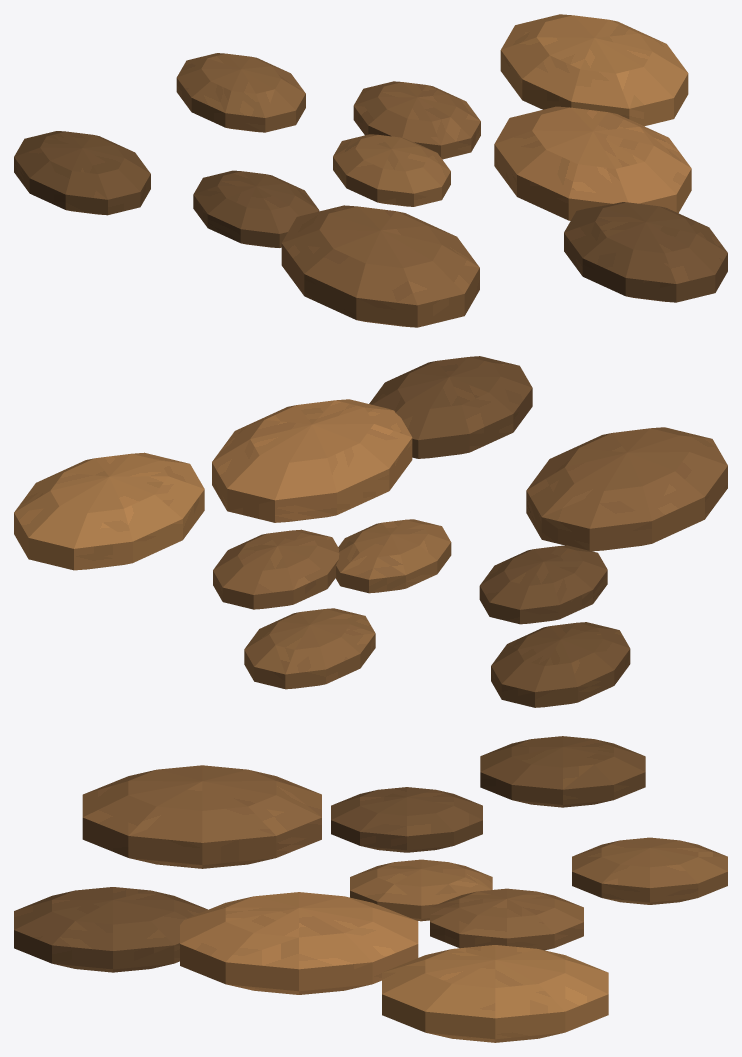
File: seed_brussels_sprout.glb
3 views of the same model, one above another, from view 1: azimuth 30°, elevation 25°; view 2: azimuth 150°, elevation 25°; view 3: azimuth 270°, elevation 25° (orthographic). The views are drawn at different scales.
Parts seen in each view (by area): view 1: block_grain 5, block_grain 3, block_grain 6, block_grain 8, block_grain 7, block_grain 4, block_grain 1, block_grain 2, block_grain 0; view 2: block_grain 5, block_grain 3, block_grain 6, block_grain 8, block_grain 7, block_grain 4, block_grain 1, block_grain 2, block_grain 0; view 3: block_grain 5, block_grain 3, block_grain 6, block_grain 8, block_grain 7, block_grain 4, block_grain 2, block_grain 1, block_grain 0.
Boxes of the visible parts, bbox=[...] form: block_grain 5: bbox=[281, 205, 479, 327]; block_grain 3: bbox=[494, 106, 691, 220]; block_grain 6: bbox=[500, 14, 688, 126]; block_grain 8: bbox=[564, 202, 727, 302]; block_grain 7: bbox=[14, 131, 150, 215]; block_grain 4: bbox=[176, 53, 305, 132]; block_grain 1: bbox=[353, 81, 480, 159]; block_grain 2: bbox=[193, 170, 319, 247]; block_grain 0: bbox=[333, 134, 450, 206]; block_grain 5: bbox=[526, 427, 727, 551]; block_grain 3: bbox=[212, 399, 412, 522]; block_grain 6: bbox=[14, 452, 204, 570]; block_grain 8: bbox=[369, 356, 532, 458]; block_grain 7: bbox=[491, 622, 630, 707]; block_grain 4: bbox=[244, 608, 375, 689]; block_grain 1: bbox=[213, 529, 339, 609]; block_grain 2: bbox=[479, 545, 607, 624]; block_grain 0: bbox=[335, 519, 451, 593]; block_grain 5: bbox=[82, 765, 321, 868]; block_grain 3: bbox=[180, 892, 418, 994]; block_grain 6: bbox=[382, 945, 608, 1042]; block_grain 8: bbox=[14, 887, 207, 972]; block_grain 7: bbox=[480, 736, 645, 807]; block_grain 4: bbox=[572, 837, 727, 904]; block_grain 2: bbox=[331, 787, 482, 852]; block_grain 1: bbox=[430, 888, 583, 950]; block_grain 0: bbox=[350, 859, 492, 921].
Size of the model in its own units: 0.0213 by 0.00244 by 0.022.
1 material, 1 textured.
